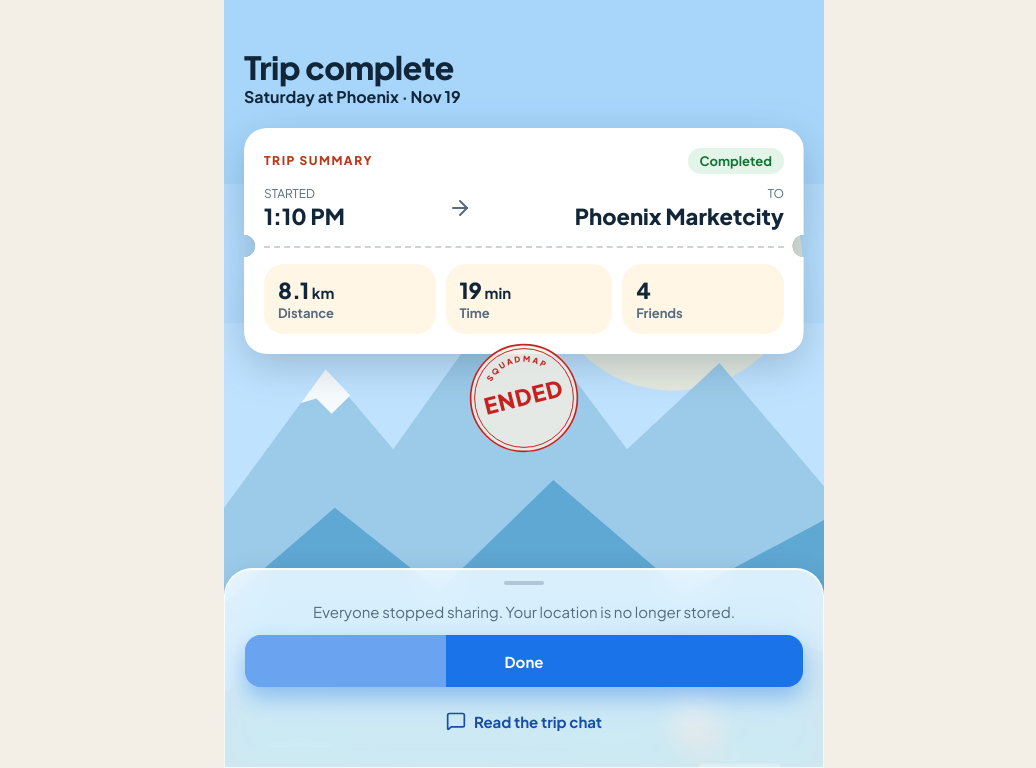
Test: Trip complete › lets a guest finish, which forgets them on this device
Expected: the heading "Trip complete" is shown, [244, 47, 454, 87]
Step 1. Click the button "Done" → (524, 661), box [245, 635, 803, 687]
(page scrolled)
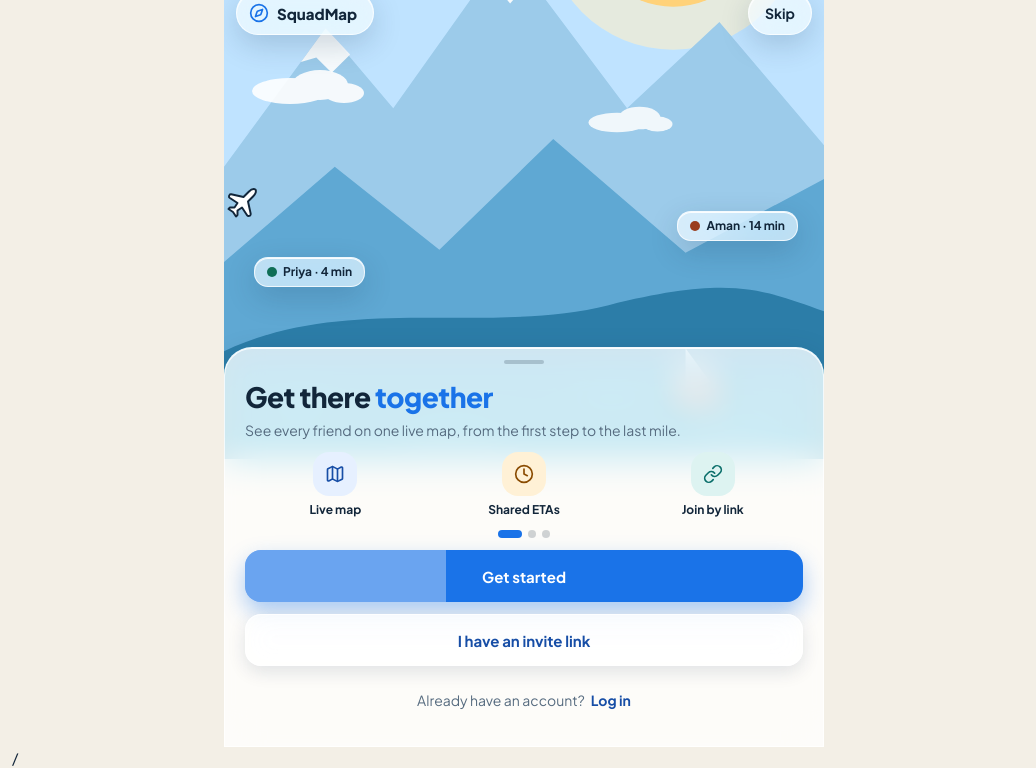
Expected: the text with test id "location" reads "/", [12, 748, 18, 767]
